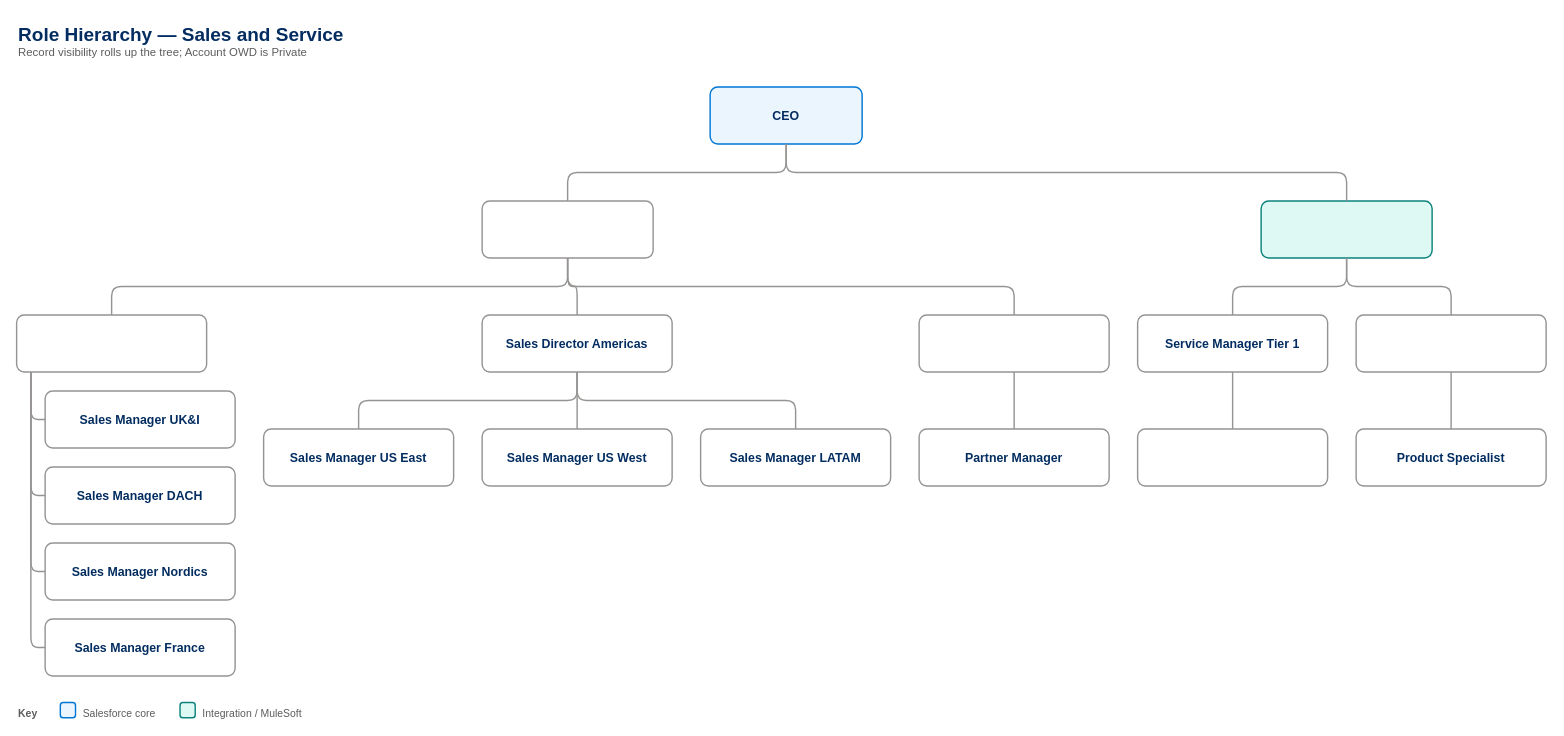
The diagram is 1564 pixels wide and 736 high, and some of its shapes have lost their labels. The shapes that lost their labels are listed below. From the top down, each one's centre as x and y in pixels, then its label:
point 567,229: VP Global Sales
point 1346,229: VP Customer Service
point 111,343: Sales Director EMEA
point 1013,343: Channel Director
point 1450,343: Service Manager Tier 2
point 1232,457: Service Agent
